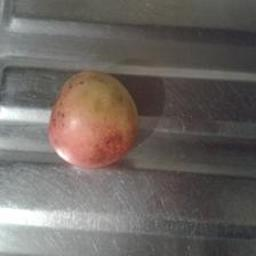Mango Semifresh: (22, 54, 152, 185)
